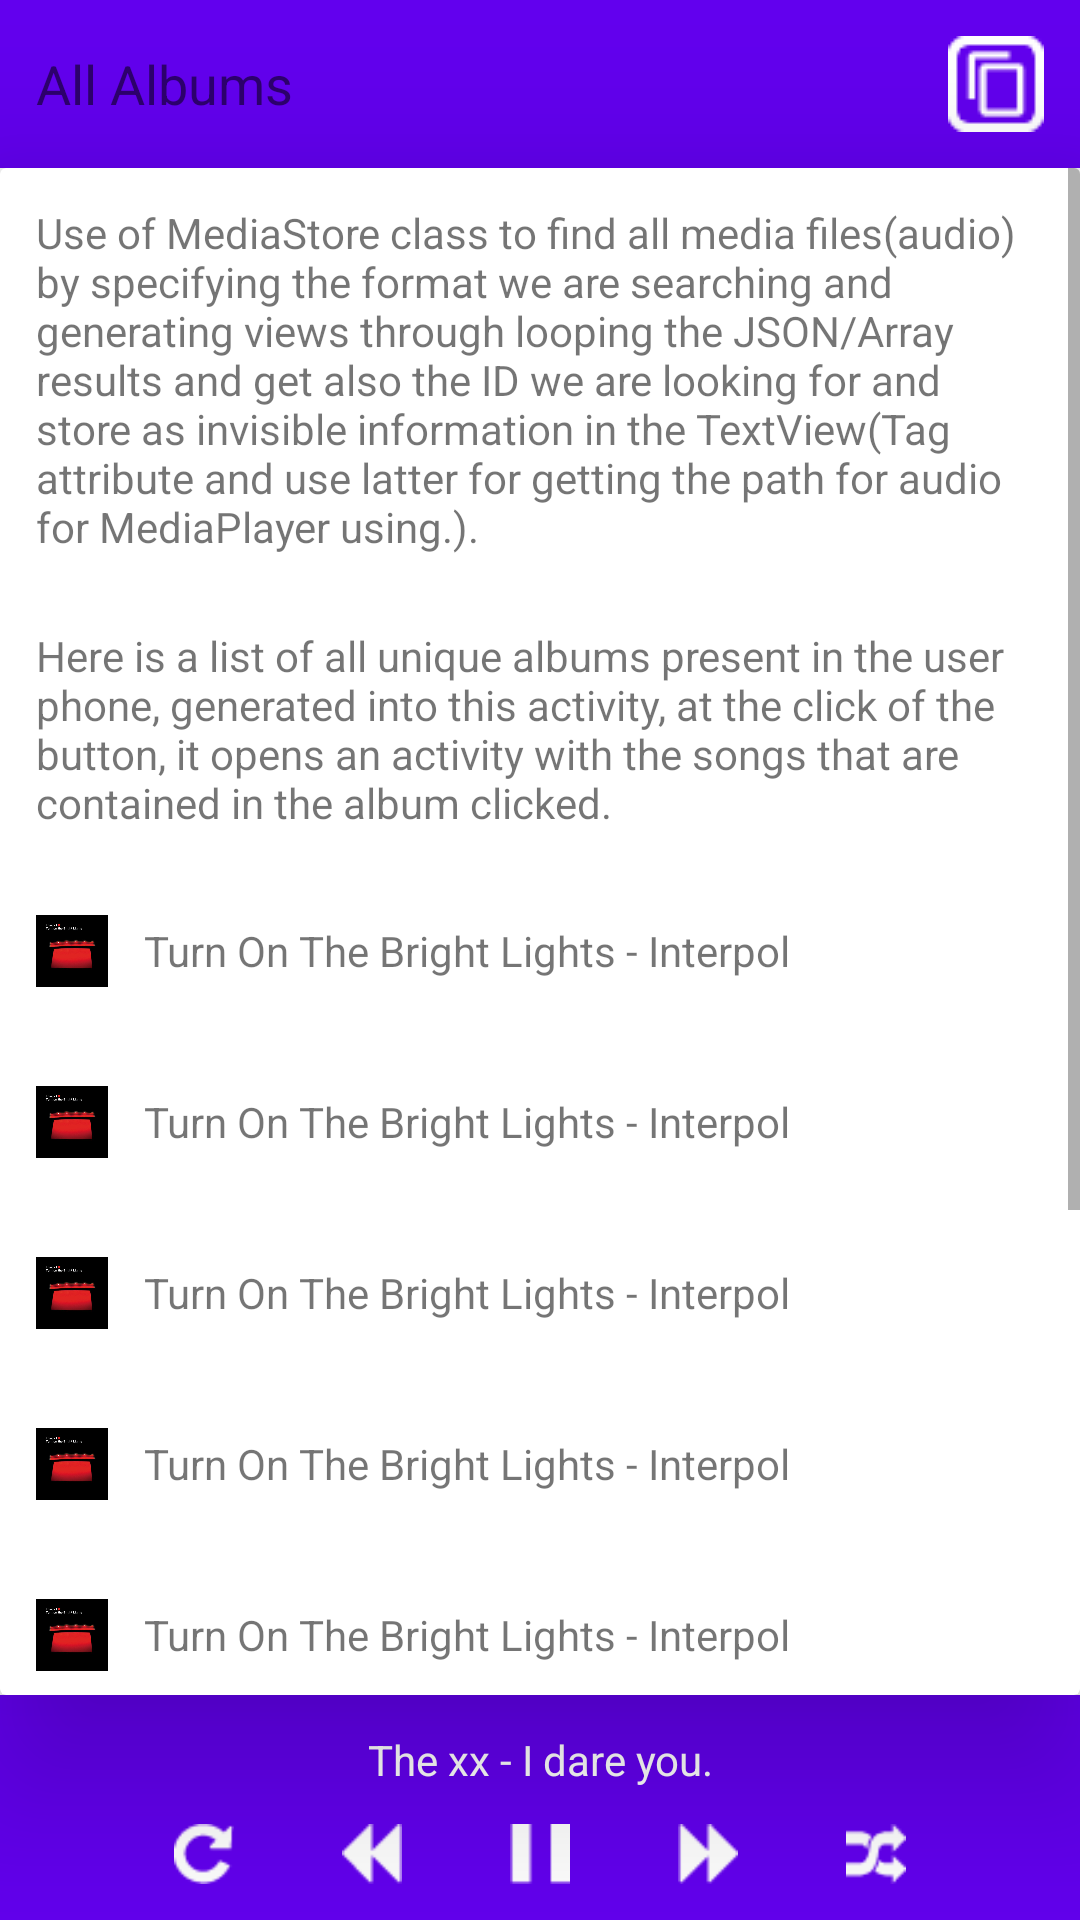

Screen size 1080x1920. Icon name, then its box in pixels as region(x1, y1, x2, y2):
backward: region(342, 1824, 402, 1884)
forward: region(678, 1824, 738, 1884)
pause: region(510, 1824, 570, 1884)
repeat: region(174, 1824, 234, 1884)
shuffle: region(846, 1824, 906, 1884)
